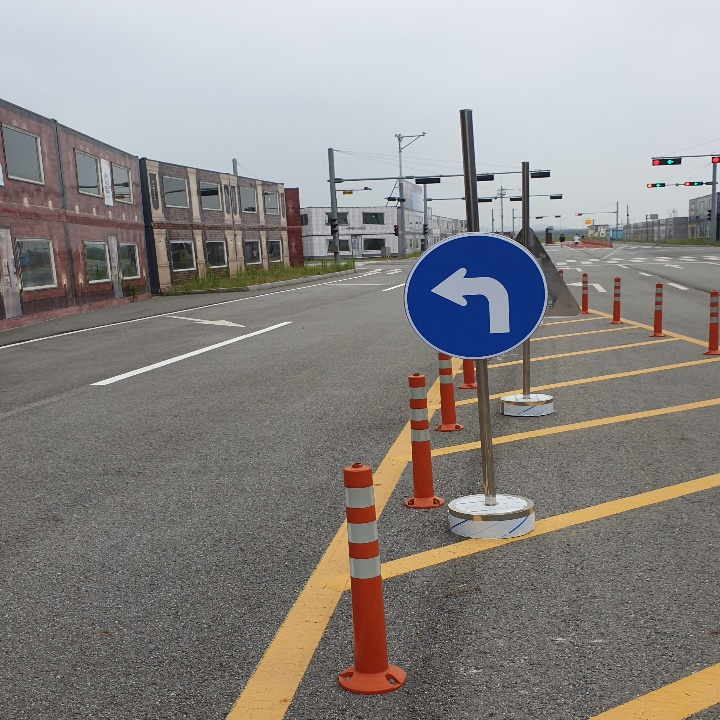left: (426, 265, 519, 342)
